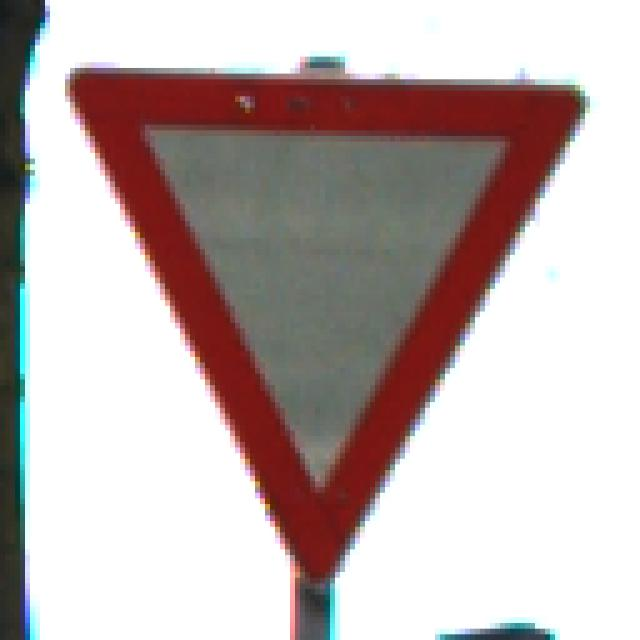Give Way: (56, 58, 586, 590)
